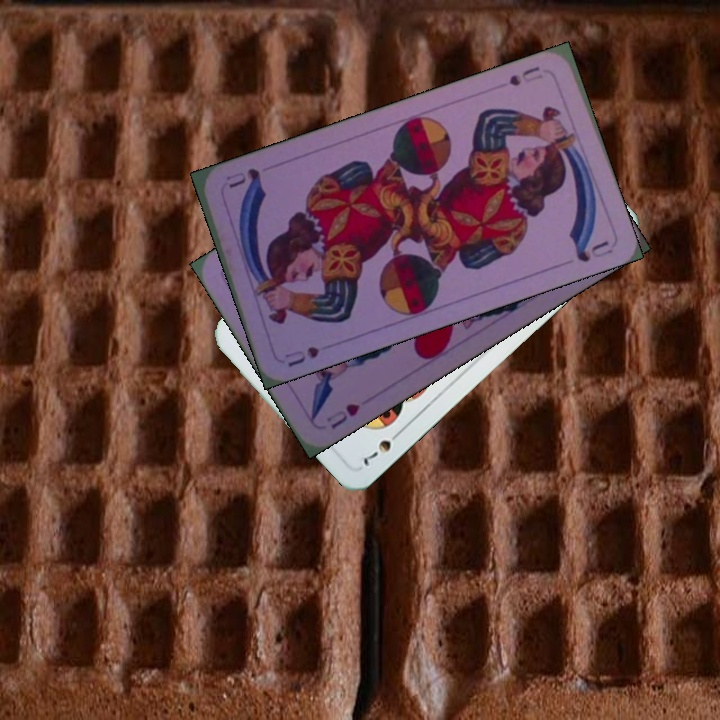HU: (322, 399, 363, 432)
S7: (359, 425, 406, 469)
SU: (281, 342, 322, 370), (505, 62, 545, 89)
